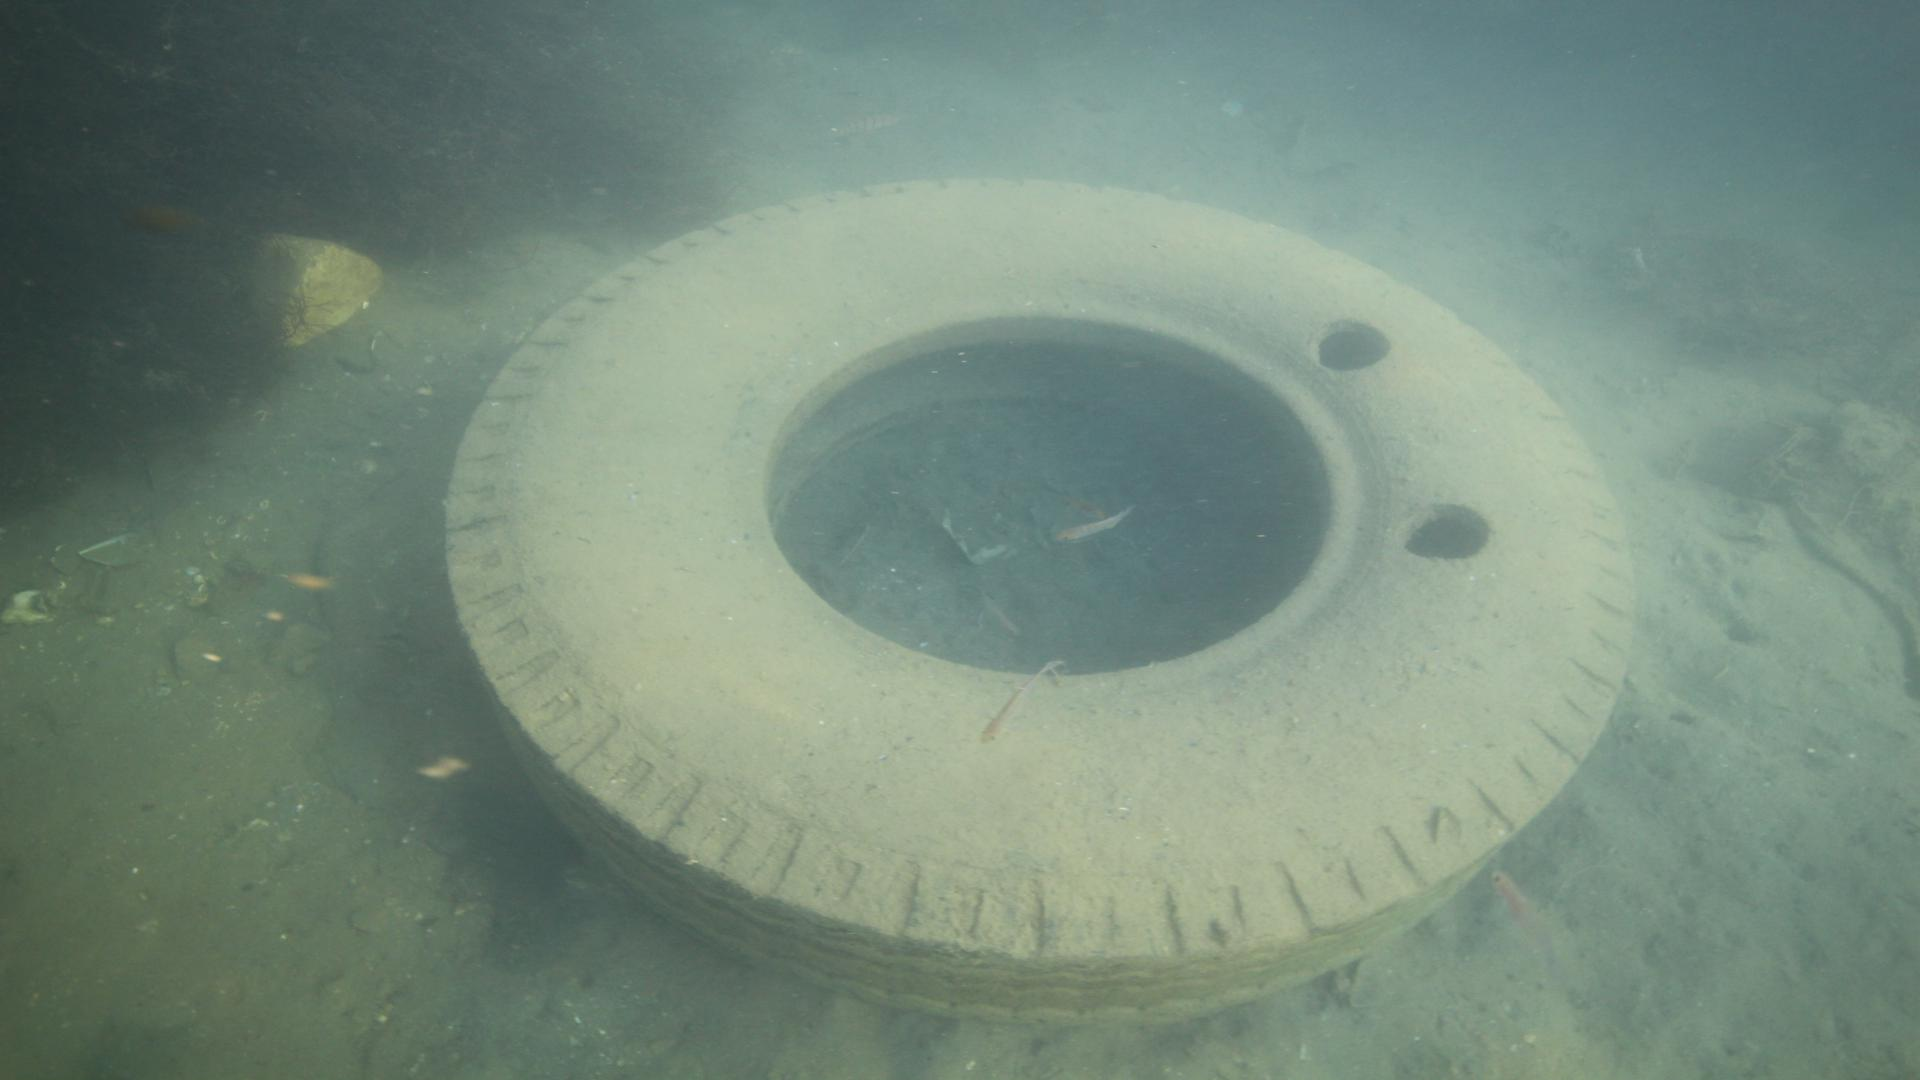tire: (442, 173, 1630, 1026)
